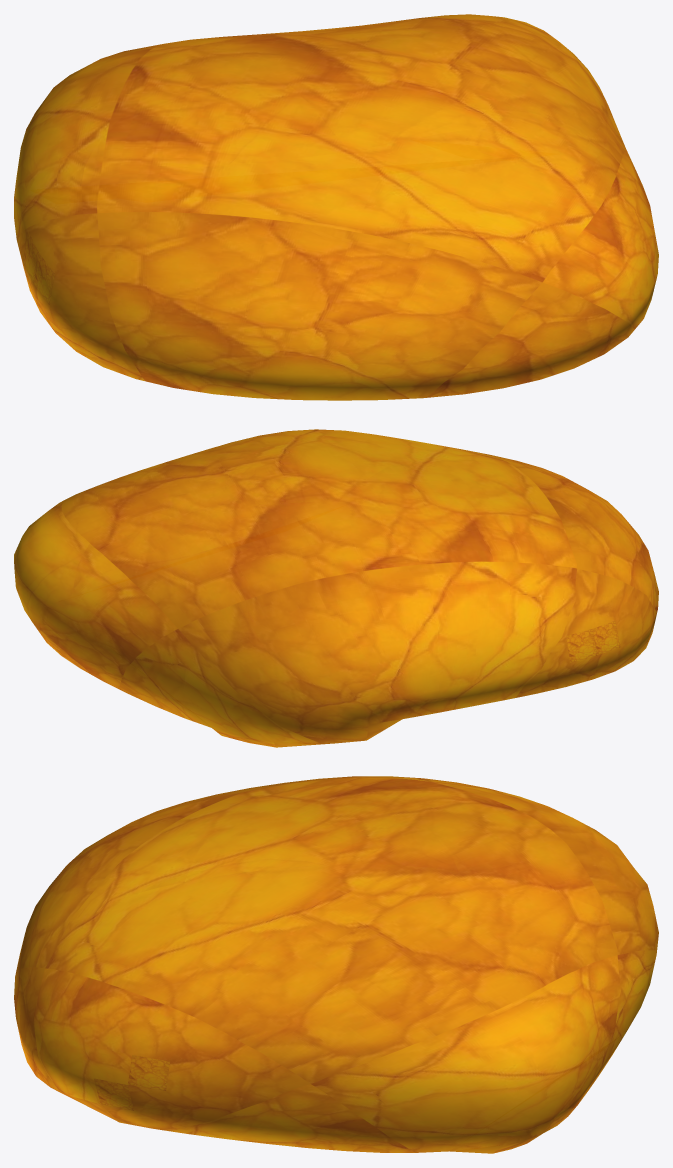
File: amber.fbx
The picture shows the model from 3 angles, top to bottom: view 1: azimuth 30°, elevation 25°; view 2: azimuth 150°, elevation 25°; view 3: azimuth 270°, elevation 25°; orthographic projection. The views are drawn at different scales.
Visible parts, largest first — view 1: Sphere; view 2: Sphere; view 3: Sphere.
Boxes of the visible parts, box(x1,y1,x2,y2) form: Sphere: box(14, 14, 658, 400); Sphere: box(14, 429, 658, 747); Sphere: box(14, 776, 658, 1153).
Bounding box in the file's own units: 0.1969 × 0.0622 × 0.1867.
1 material, 1 textured.
